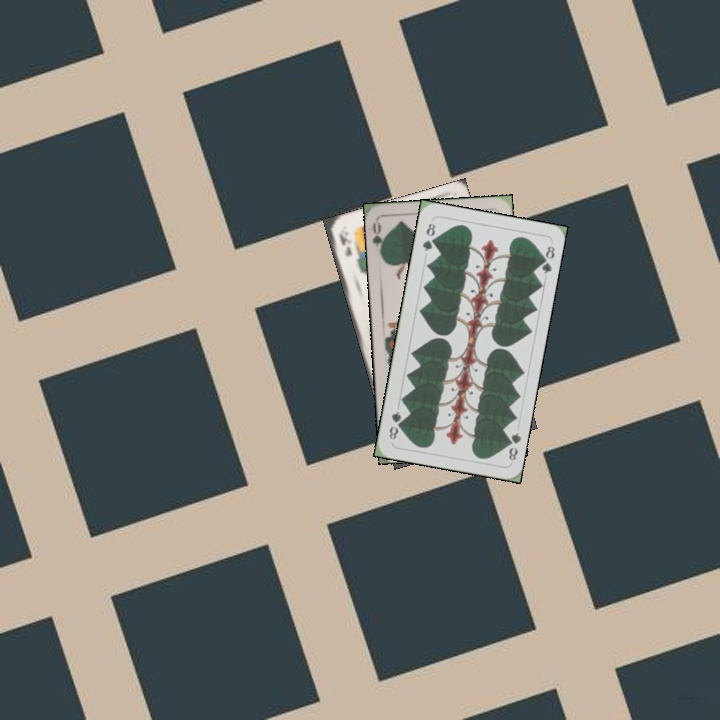EK: (335, 230, 355, 259)
G8: (502, 428, 524, 463), (418, 217, 438, 254)
GO: (369, 218, 388, 258)
